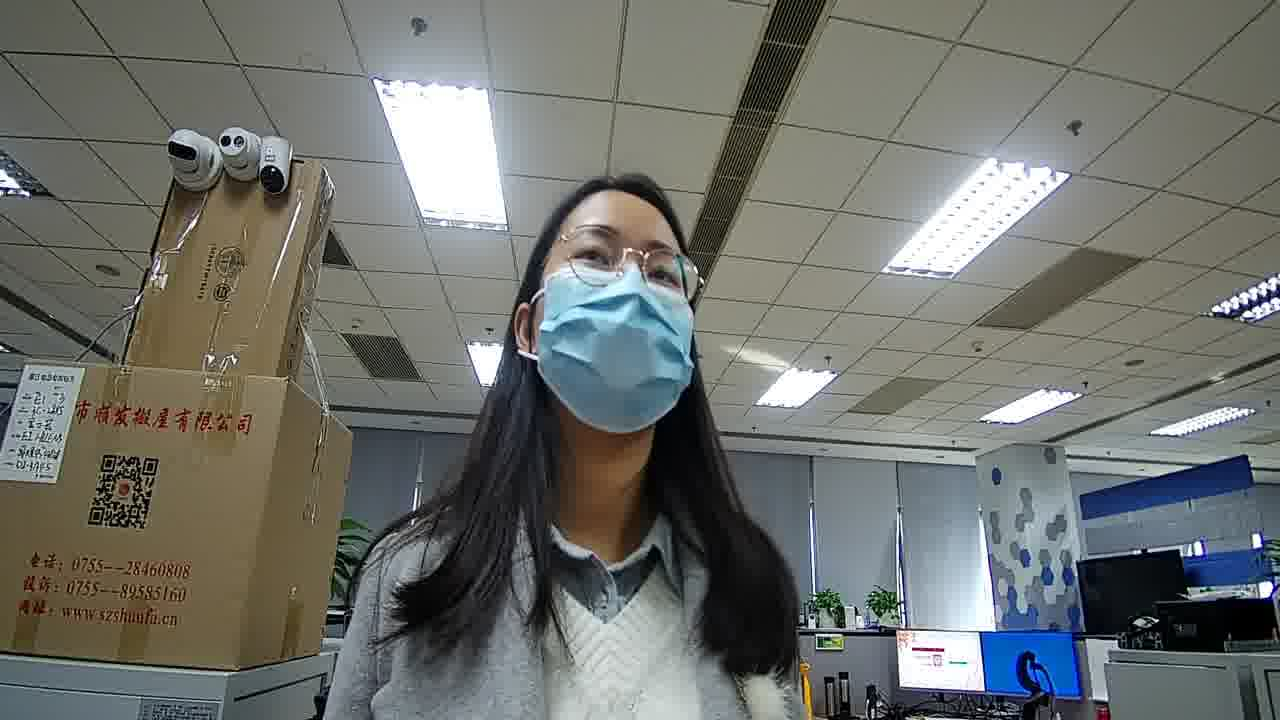mask: (542, 268, 696, 439)
person: (335, 148, 808, 673), (529, 193, 698, 437)
